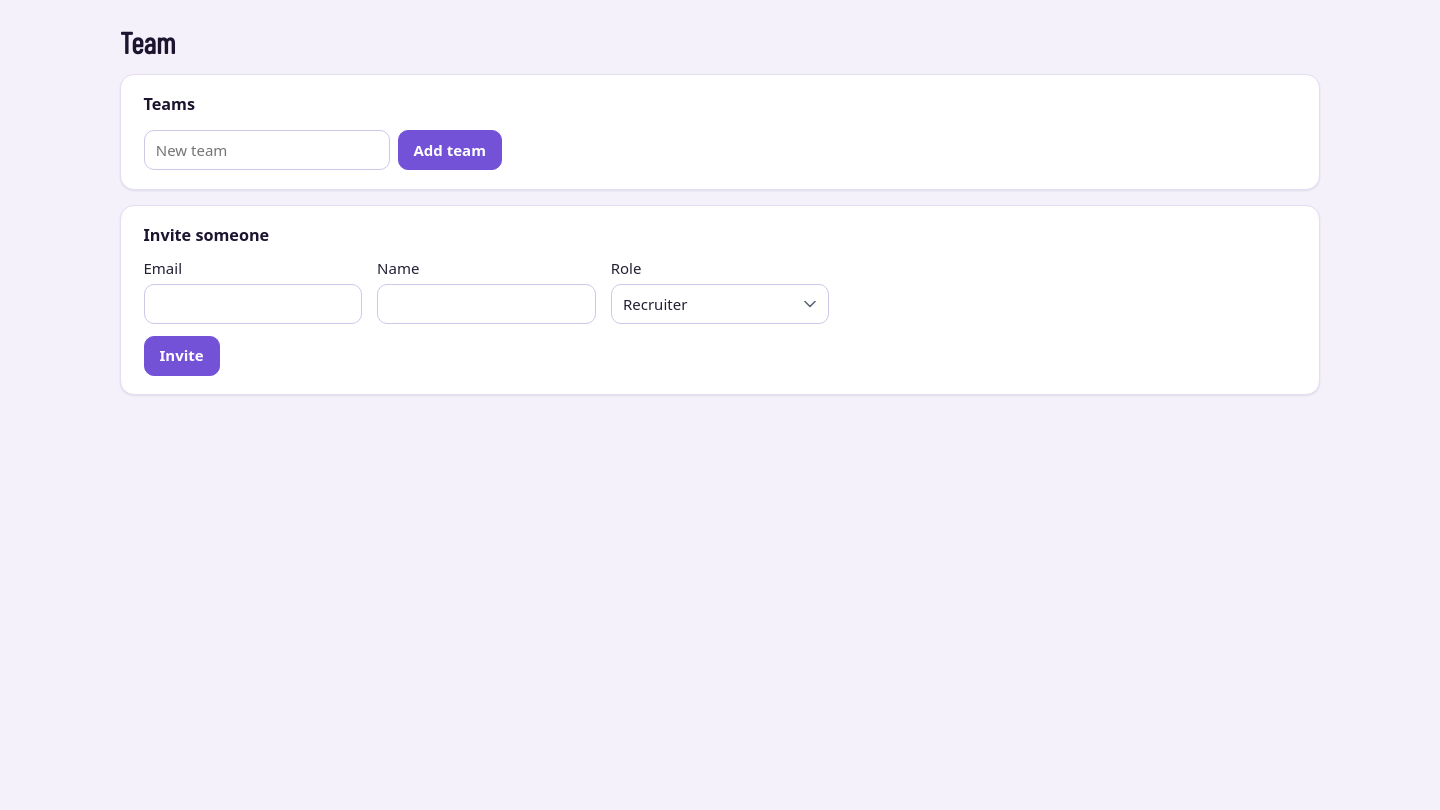
Test: team › invites someone and shows the link to pass on
The width and height of the screenshot is (1440, 810).
In the field labelled "Email": coordinates (253, 304) x1=144 y1=284 x2=362 y2=324, type " wei@contoh.my "
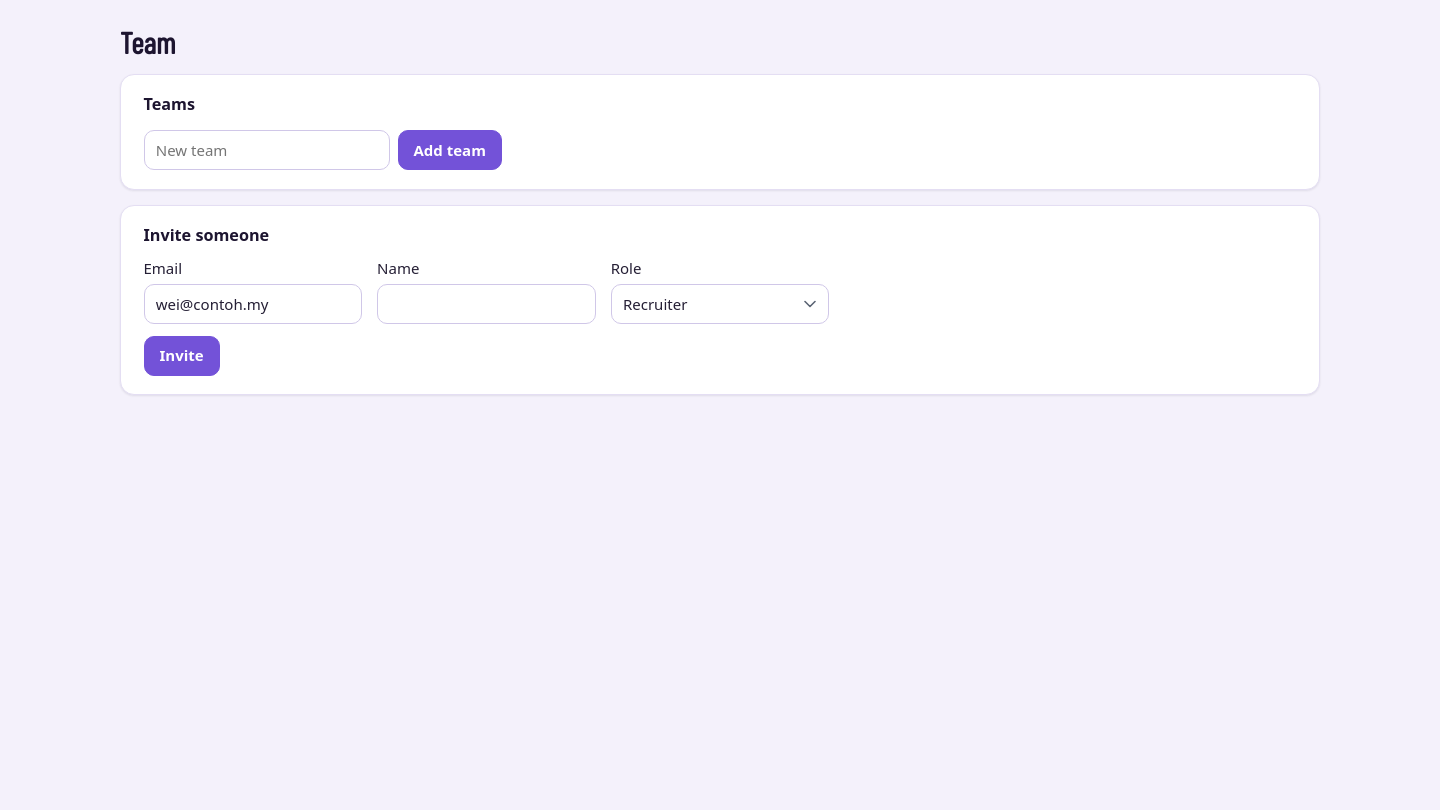
In the field labelled "Name": coordinates (486, 304) x1=377 y1=284 x2=596 y2=324, type "Wei"
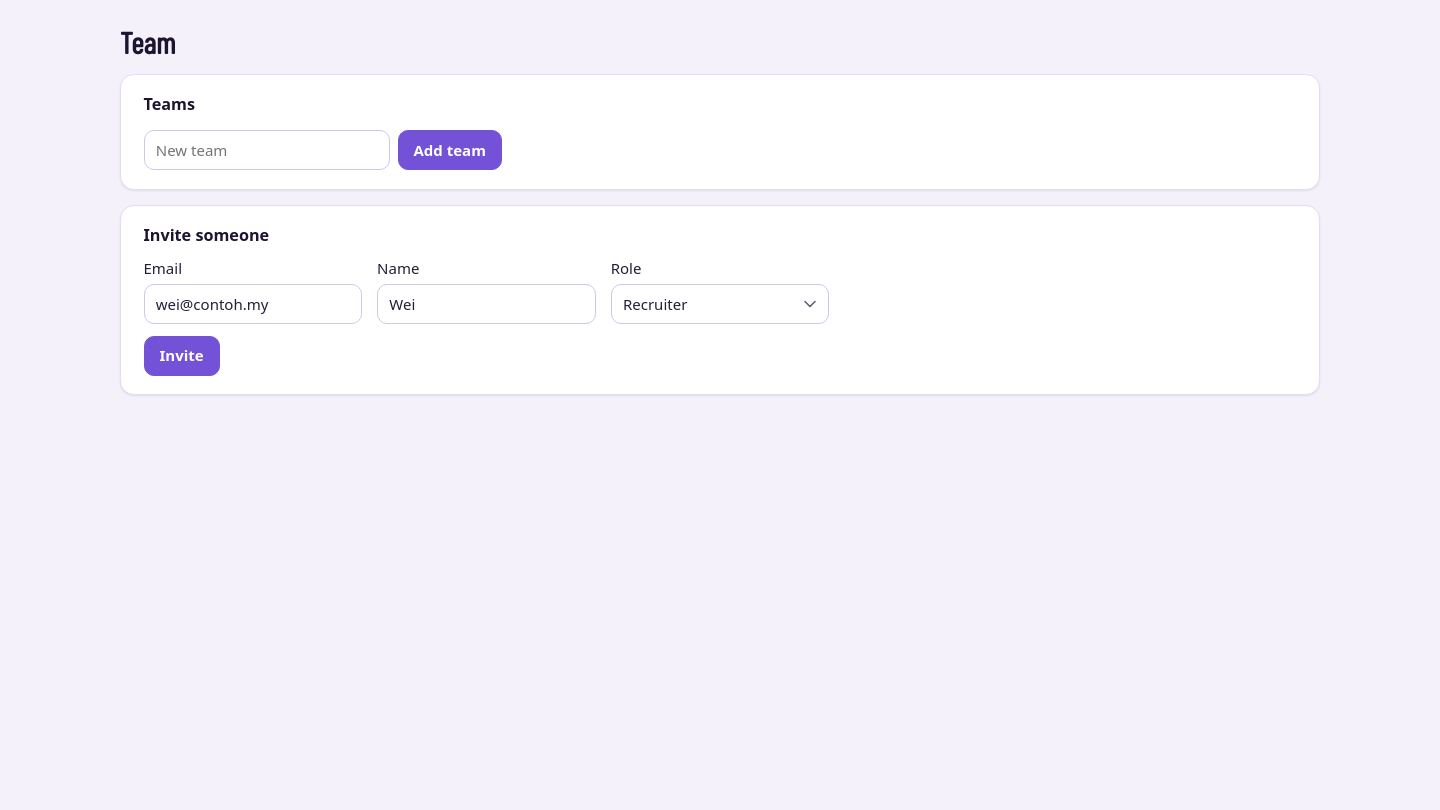
Click the button "Invite": coordinates (182, 356) x1=144 y1=336 x2=220 y2=376
(page scrolled)
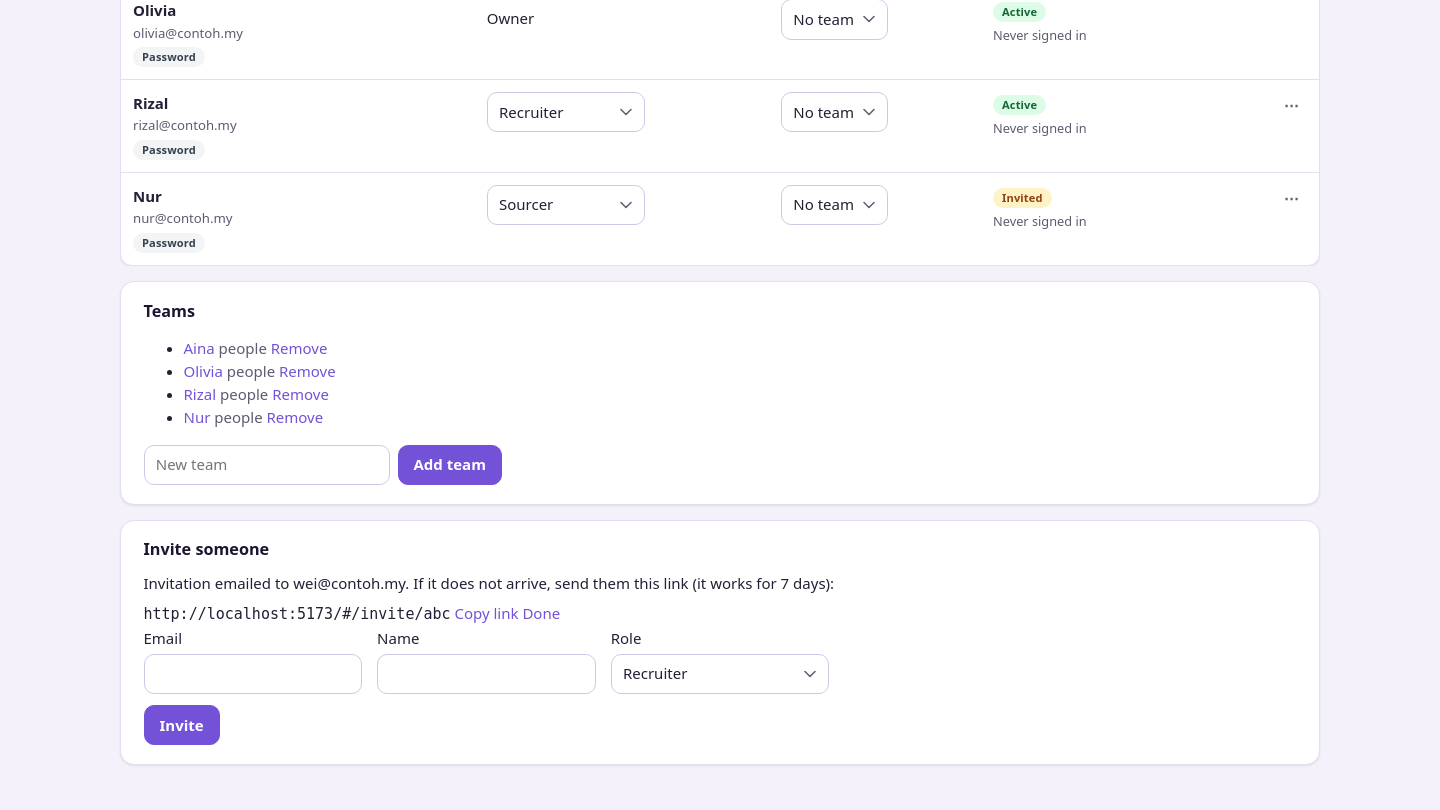
Result: the text "http://localhost:5173/#/invite/abc" is shown at x1=144 y1=605 x2=450 y2=623
